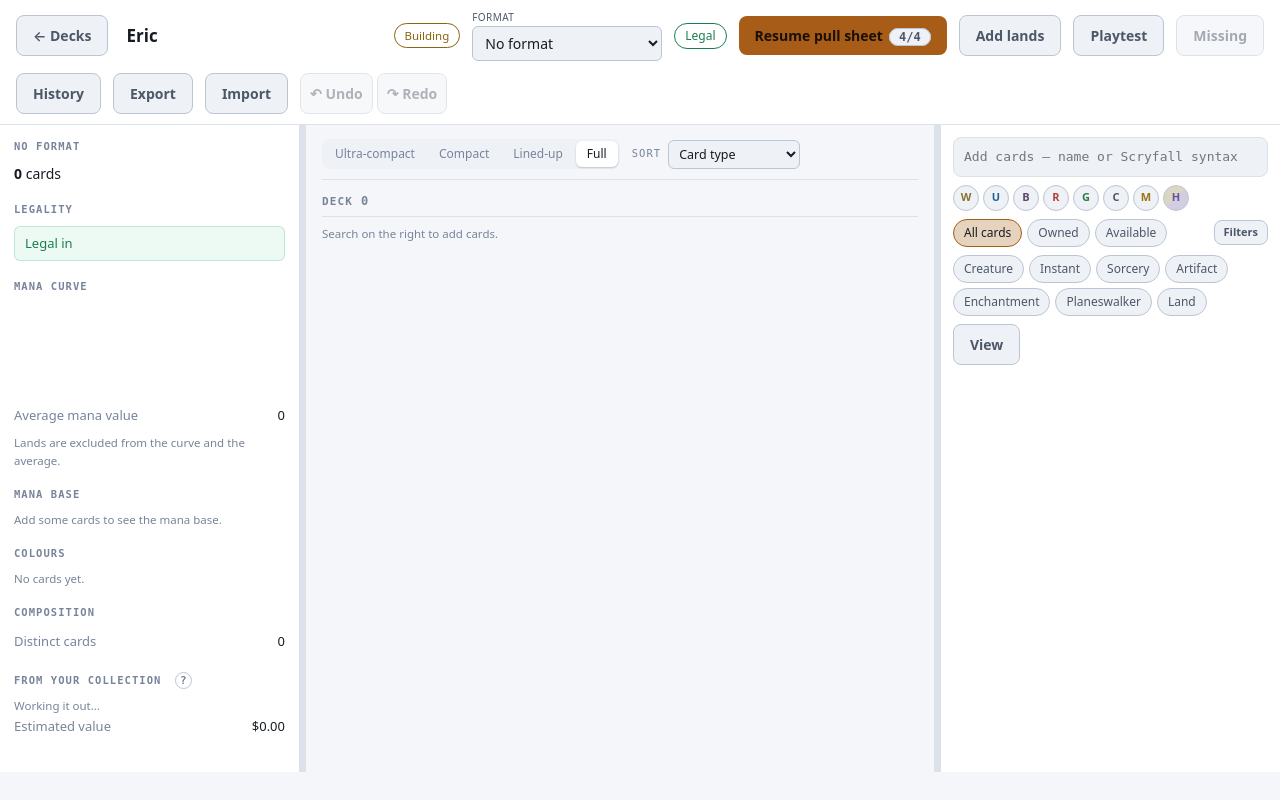
Test: DeckBuilder pull-sheet header › re-reads run history after a status change, so a cancelled run is not offered on the way back
Expected: the button titled "click to rename" is shown, [120,19,382,52]
Expected: the button "Resume pull sheet4/4" is shown, [738,16,947,55]
Click the button "Building": [427, 36] box [394,23,460,48]
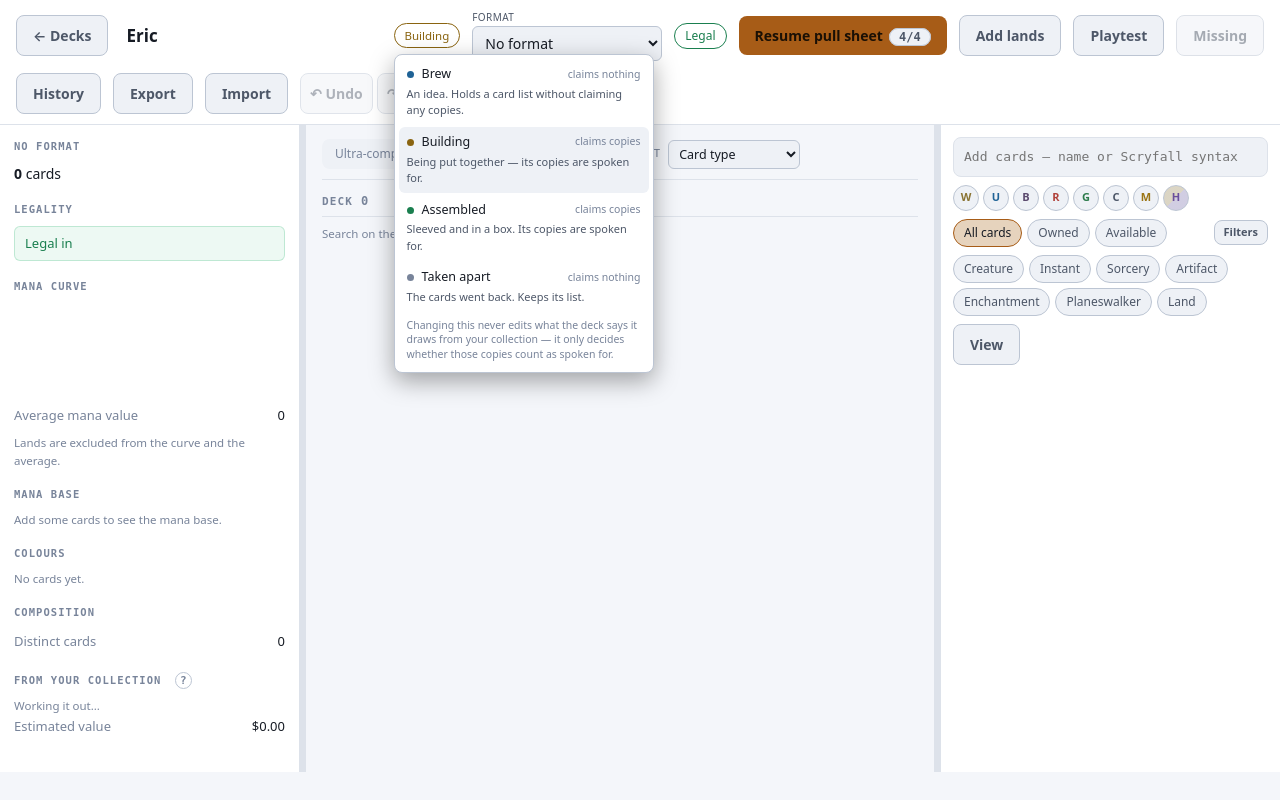
Click the option "Brew": [524, 92] box [398,59,648,125]
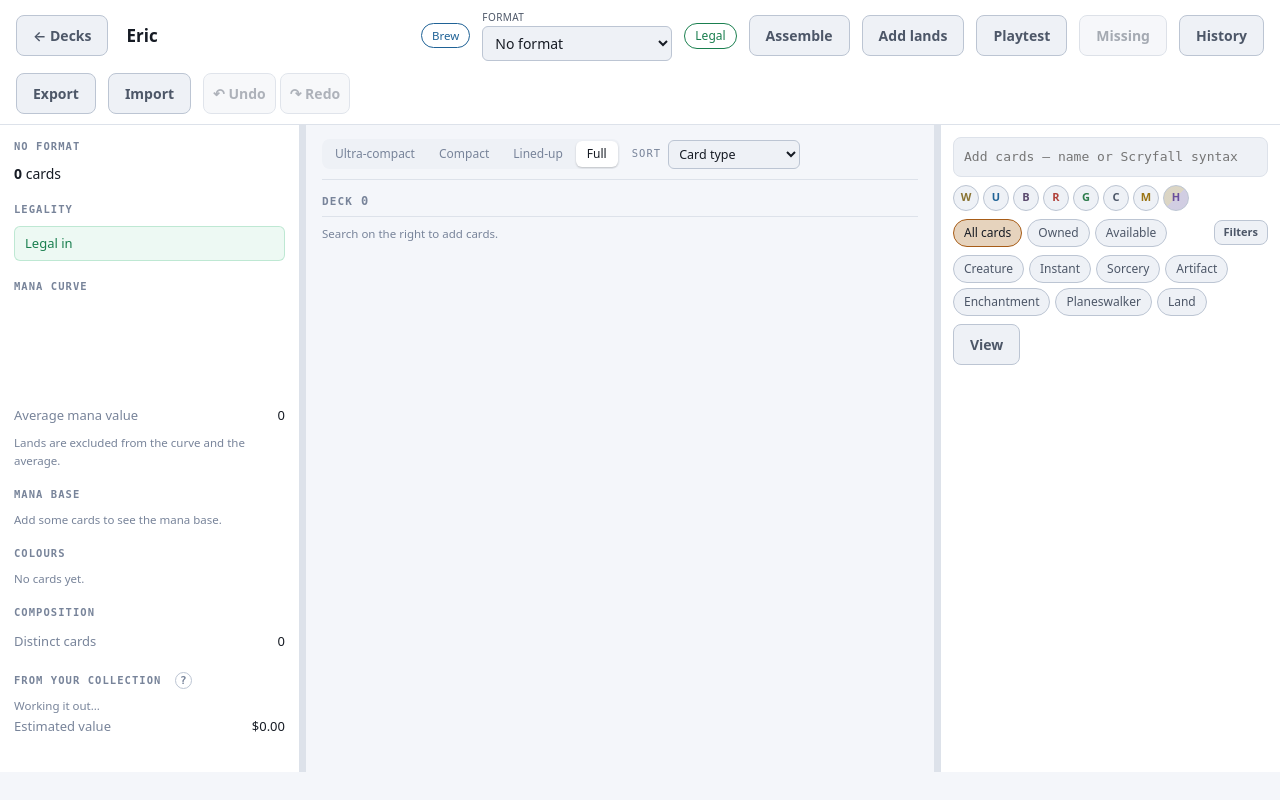
Now the button "Assemble" is shown, box [749,15,850,56]
Now the button "Resume pull sheet" is gone
Click the button "Brew": [446, 36] box [421,23,470,48]
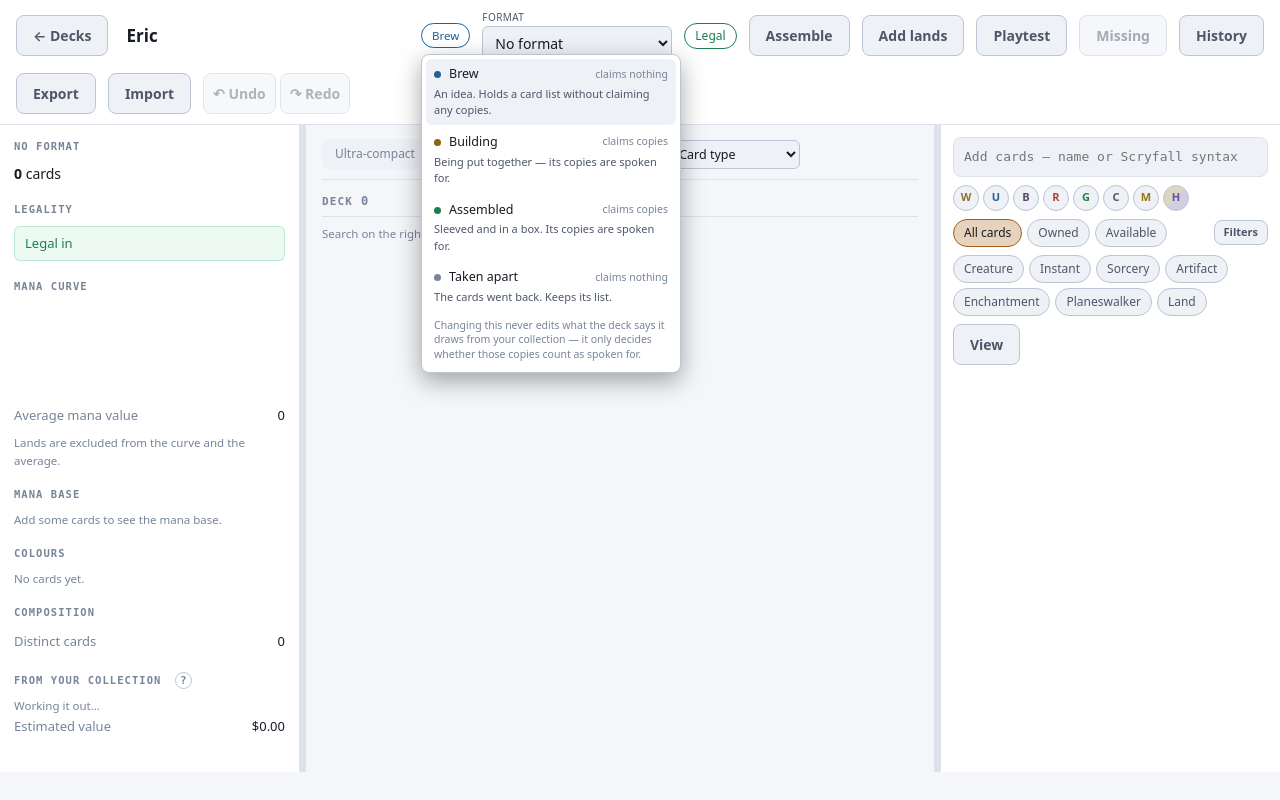
Click the option "Building": [551, 160] box [426,127,676,193]
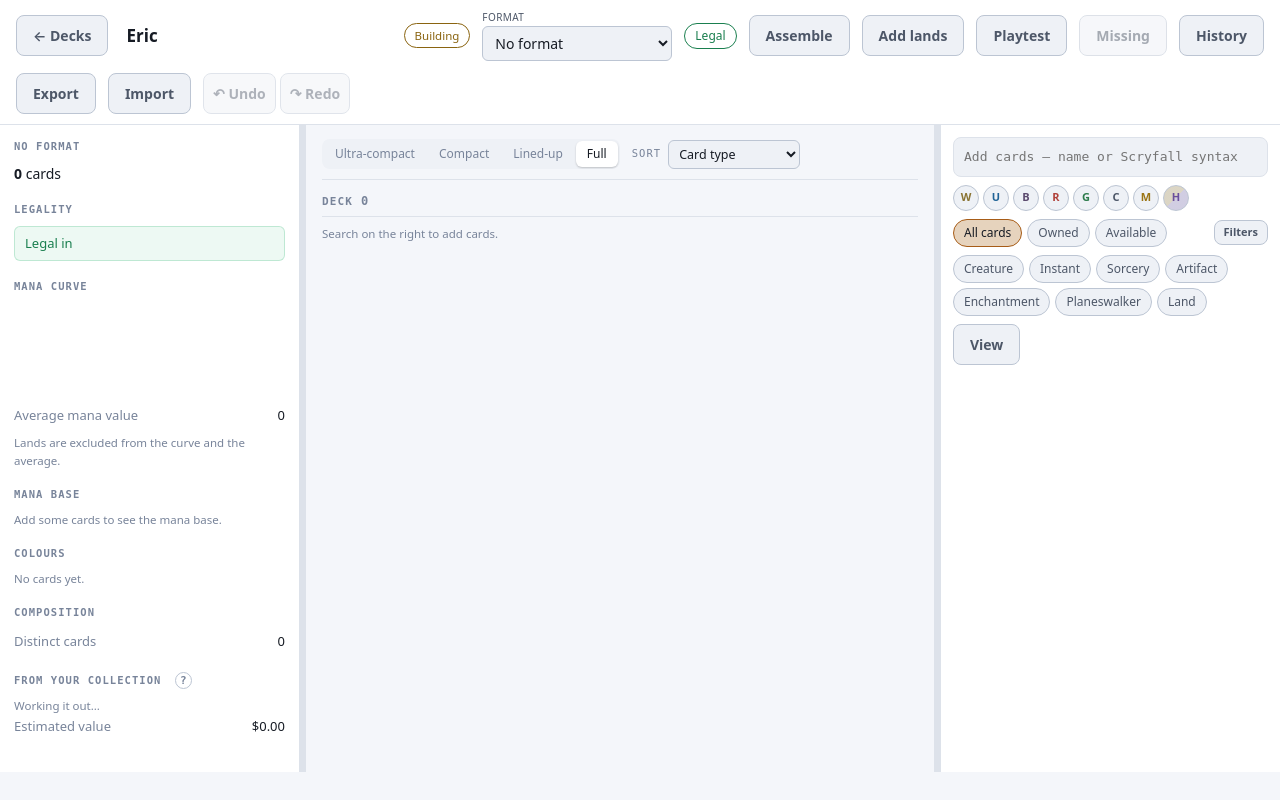
Expected: the button "Resume pull sheet" is not shown
Now the button "Assemble" is shown, box [749,15,850,56]
Now the button "Building" is shown, box [404,23,470,48]
